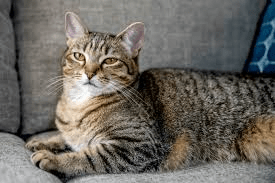cat: (39, 9, 160, 178)
